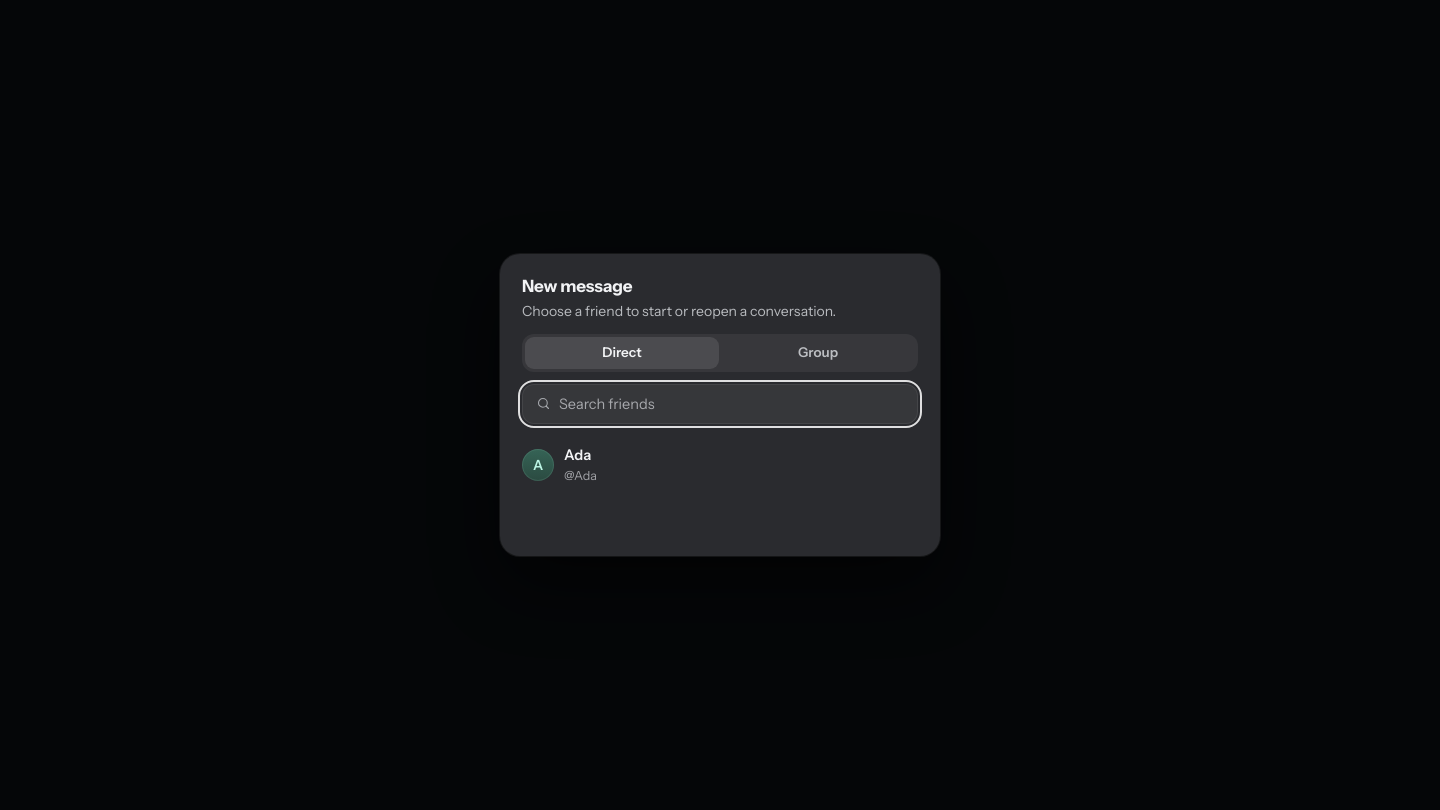
Test case: DmPickerModal › surfaces an error and keeps the dialog open when creation fails
What coordinates should you click on to do the following:
click the text "Ada"
I would click on:
 (578, 455)
Its box is [564,446,591,464].
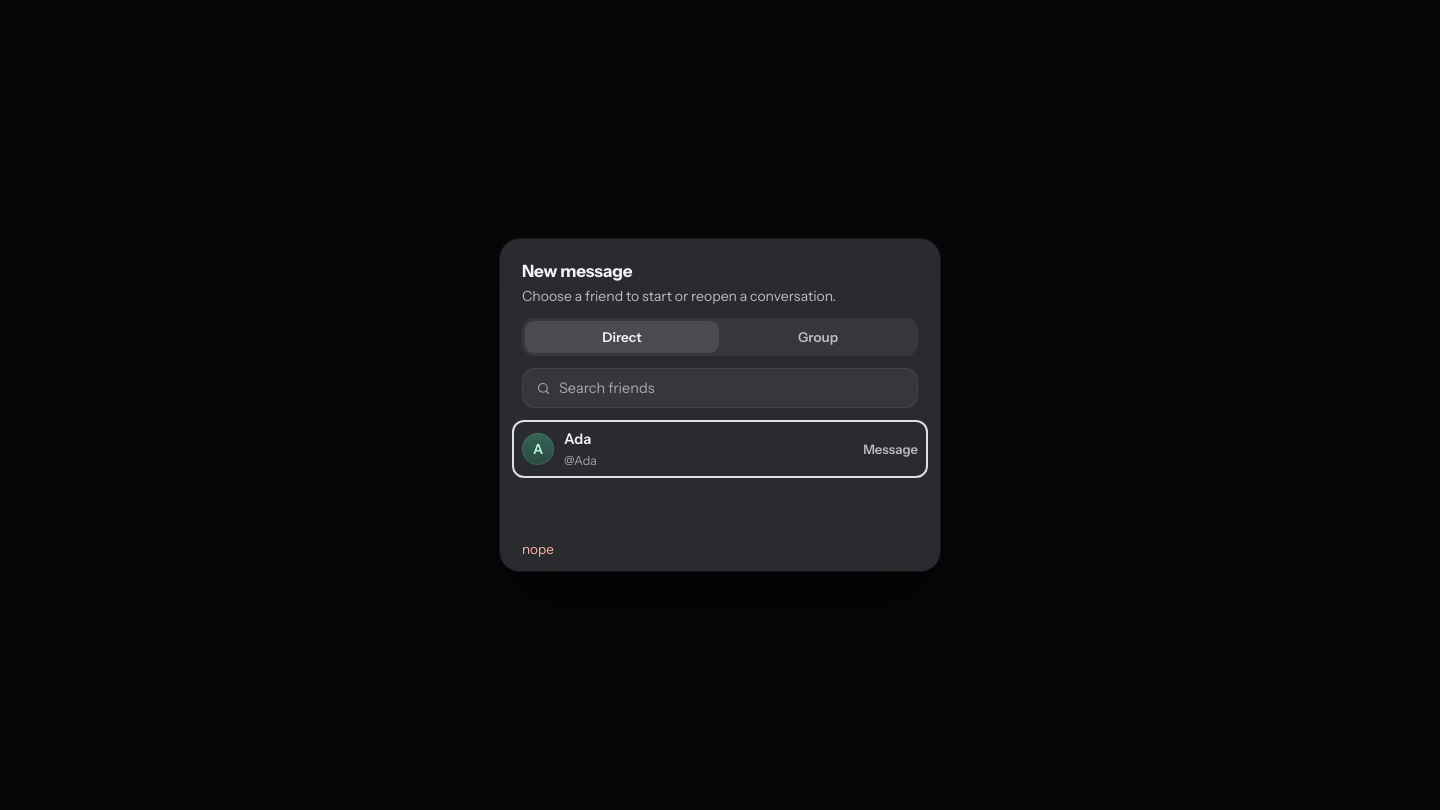
Check: the message "nope" is shown, box [522,541,554,557]
